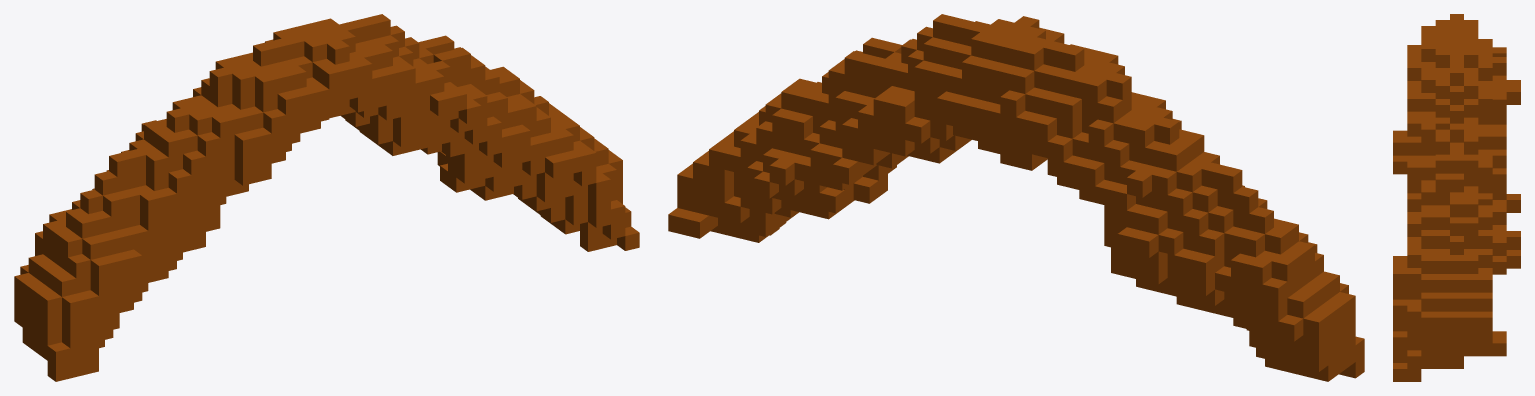
File: level 1 Checkpoint 2-2.obj
The picture shows the model from 3 angles, left to right: view 1: azimuth 30°, elevation 25°; view 2: azimuth 150°, elevation 25°; view 3: azimuth 270°, elevation 25°; orthographic projection. The views are drawn at different scales.
Bounding box in the file's own units: 40 × 17 × 9.
1 material, 1 textured.
